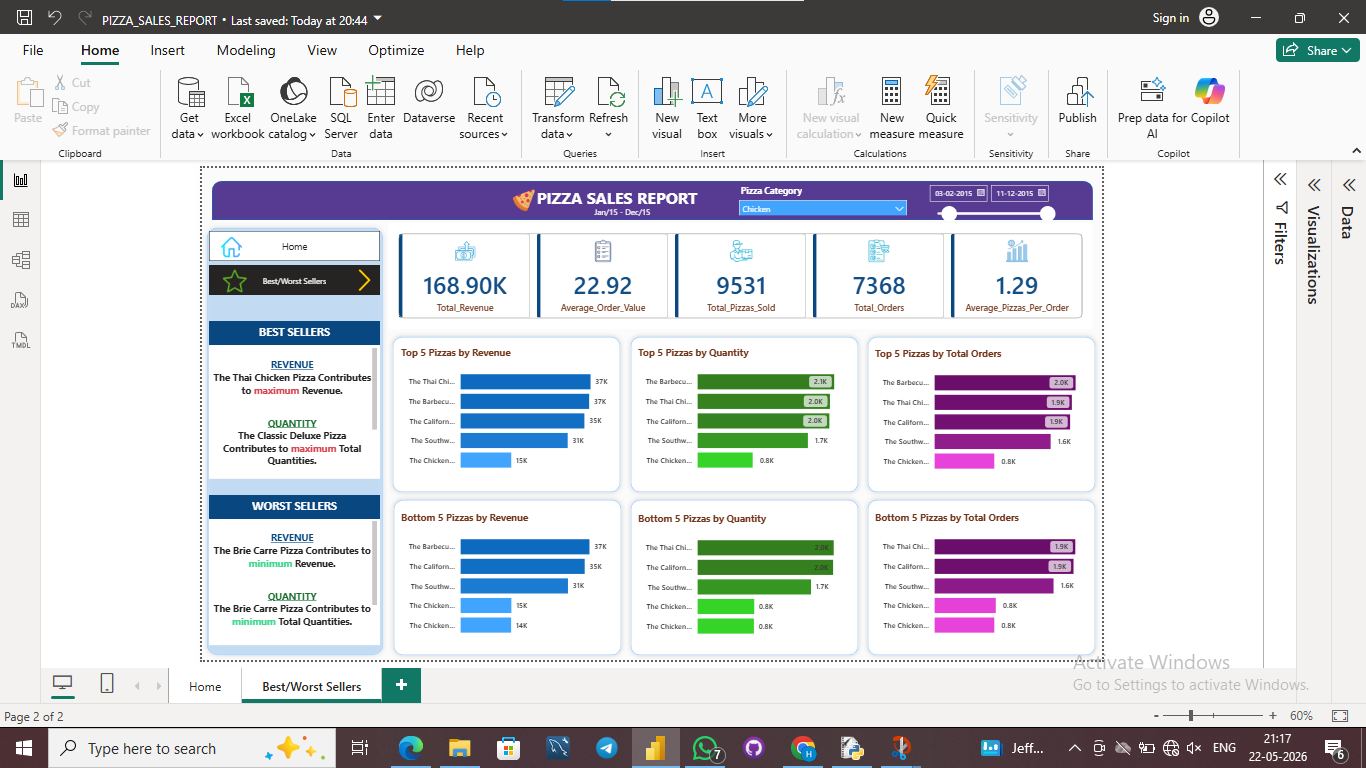

This screenshot's page, from the dashboard's own definition file:
{"tool":"powerbi","page":{"name":"Best/Worst Sellers","canvas":[1500,820],"ordinal":1},"visuals":[{"type":"shape","box":[0,91.7,310,728.3],"z":0},{"type":"cardVisual","fields":{"Data":["pizza_db pizza_sales.Total_Revenue","pizza_db pizza_sales.Average_Order_Value","pizza_db pizza_sales.Total_Pizzas_Sold","pizza_db pizza_sales.Total_Orders","pizza_db pizza_sales.Average_Pizzas_Per_Order"]},"box":[310,91.7,1175,176.7],"z":1000},{"type":"shape","box":[16.7,21.7,1468.3,65],"z":2000},{"type":"textbox","box":[551.7,26.7,280,56.7],"z":3000},{"type":"textbox","box":[641.7,60,128.3,45],"z":4000},{"type":"image","box":[508.3,35,56.7,38.3],"z":5000},{"type":"shape","box":[310,273.3,395,275],"z":6000},{"type":"textbox","box":[11.7,255,285,40],"z":7000},{"type":"textbox","box":[11.7,295,285,223.3],"z":8000},{"type":"textbox","box":[11.7,583.3,285,211.7],"z":9000},{"type":"textbox","box":[11.7,545,285,40],"z":10000},{"type":"slicer","title":"Pizza Category","fields":{"Values":["pizza_db pizza_sales.pizza_category"]},"box":[885,21.7,300,56.7],"z":11000},{"type":"slicer","title":"Pizza Category","fields":{"Values":["pizza_db pizza_sales.order_date"]},"box":[1200,18.3,241.7,83.3],"z":12000},{"type":"shape","box":[706.7,273.3,395,275],"z":13000},{"type":"shape","box":[1101.7,273.3,395,275],"z":14000},{"type":"shape","box":[311.7,545,395,275],"z":15000},{"type":"shape","box":[706.7,545,395,275],"z":16000},{"type":"shape","box":[1101.7,545,395,275],"z":17000},{"type":"barChart","title":"Top 5 Pizzas by Revenue","fields":{"Category":["pizza_db pizza_sales.pizza_name"],"Y":["pizza_db pizza_sales.Total_Revenue"]},"box":[326.7,296.7,365,221.7],"z":18000},{"type":"barChart","title":"Top 5 Pizzas by Quantity","fields":{"Category":["pizza_db pizza_sales.pizza_name"],"Y":["pizza_db pizza_sales.Total_Pizzas_Sold"]},"box":[721.7,296.7,365,221.7],"z":19000},{"type":"barChart","title":" Bottom 5 Pizzas by Revenue","fields":{"Category":["pizza_db pizza_sales.pizza_name"],"Y":["pizza_db pizza_sales.Total_Revenue"]},"box":[326.7,571.7,365,221.7],"z":20000},{"type":"barChart","title":"Top 5 Pizzas by Total Orders","fields":{"Category":["pizza_db pizza_sales.pizza_name"],"Y":["pizza_db pizza_sales.Total_Orders"]},"box":[1116.7,298.3,365,221.7],"z":21000},{"type":"barChart","title":"Bottom 5 Pizzas by Quantity","fields":{"Category":["pizza_db pizza_sales.pizza_name"],"Y":["pizza_db pizza_sales.Total_Pizzas_Sold"]},"box":[721.7,573.3,365,221.7],"z":22000},{"type":"barChart","title":"Bottom 5 Pizzas by Total Orders","fields":{"Category":["pizza_db pizza_sales.pizza_name"],"Y":["pizza_db pizza_sales.Total_Orders"]},"box":[1116.7,571.7,365,221.7],"z":23000},{"type":"pageNavigator","box":[11.7,105,285,50],"z":24000},{"type":"pageNavigator","box":[11.7,161.7,285,50],"z":25000},{"type":"image","box":[245,168.3,51.7,36.7],"z":26000},{"type":"image","box":[31.7,108.3,35,46.7],"z":27000},{"type":"image","box":[16.7,168.3,75,40],"z":28000}]}

Visuals, with their boxes on the page's 1500x820 design canvas (x1, y1, x2, y2). These are canvas units, not pixel positions in the 1366x768 screenshot, which may show the page scaled, cropped or inside an application window:
shape: (0,92,310,820)
cardVisual - pizza_db pizza_sales.Total_Revenue x pizza_db pizza_sales.Average_Order_Value: (310,92,1485,268)
shape: (17,22,1485,87)
textbox: (552,27,832,83)
textbox: (642,60,770,105)
image: (508,35,565,73)
shape: (310,273,705,548)
textbox: (12,255,297,295)
textbox: (12,295,297,518)
textbox: (12,583,297,795)
textbox: (12,545,297,585)
"Pizza Category" slicer: (885,22,1185,78)
"Pizza Category" slicer: (1200,18,1442,102)
shape: (707,273,1102,548)
shape: (1102,273,1497,548)
shape: (312,545,707,820)
shape: (707,545,1102,820)
shape: (1102,545,1497,820)
"Top 5 Pizzas by Revenue" barChart: (327,297,692,518)
"Top 5 Pizzas by Quantity" barChart: (722,297,1087,518)
" Bottom 5 Pizzas by Revenue" barChart: (327,572,692,793)
"Top 5 Pizzas by Total Orders" barChart: (1117,298,1482,520)
"Bottom 5 Pizzas by Quantity" barChart: (722,573,1087,795)
"Bottom 5 Pizzas by Total Orders" barChart: (1117,572,1482,793)
pageNavigator: (12,105,297,155)
pageNavigator: (12,162,297,212)
image: (245,168,297,205)
image: (32,108,67,155)
image: (17,168,92,208)
